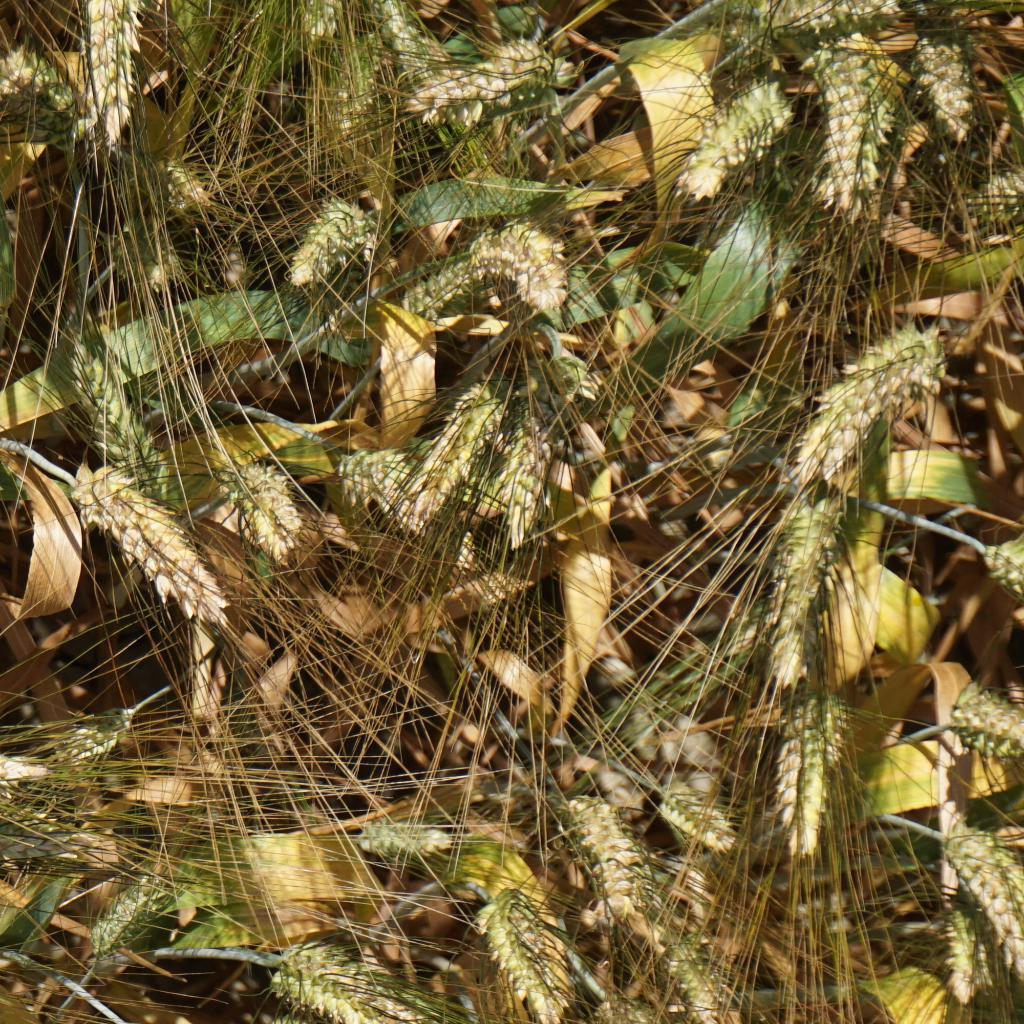0-0: (69, 464, 240, 636), (398, 358, 527, 542), (797, 326, 948, 466), (54, 338, 168, 489), (266, 935, 442, 1024), (674, 73, 783, 201), (809, 49, 890, 218), (475, 881, 565, 1020), (407, 49, 563, 124), (75, 0, 150, 151), (218, 458, 309, 580), (950, 819, 1024, 961), (557, 791, 645, 910), (769, 499, 820, 691), (87, 868, 180, 973), (477, 223, 584, 314), (780, 696, 839, 860), (495, 418, 558, 556), (0, 822, 121, 888), (909, 41, 979, 154), (283, 191, 366, 281), (0, 40, 80, 132), (335, 442, 416, 516), (58, 698, 143, 768), (945, 693, 1022, 769), (656, 783, 744, 848), (348, 808, 457, 860), (0, 730, 66, 815), (654, 940, 727, 1015), (537, 346, 612, 419), (407, 252, 478, 328), (932, 906, 990, 998), (319, 58, 376, 141), (373, 0, 431, 72), (128, 218, 184, 288), (769, 0, 894, 31), (292, 0, 354, 48), (166, 160, 211, 218), (975, 163, 1024, 215), (978, 535, 1024, 581), (606, 1000, 687, 1024), (0, 1009, 38, 1024)
